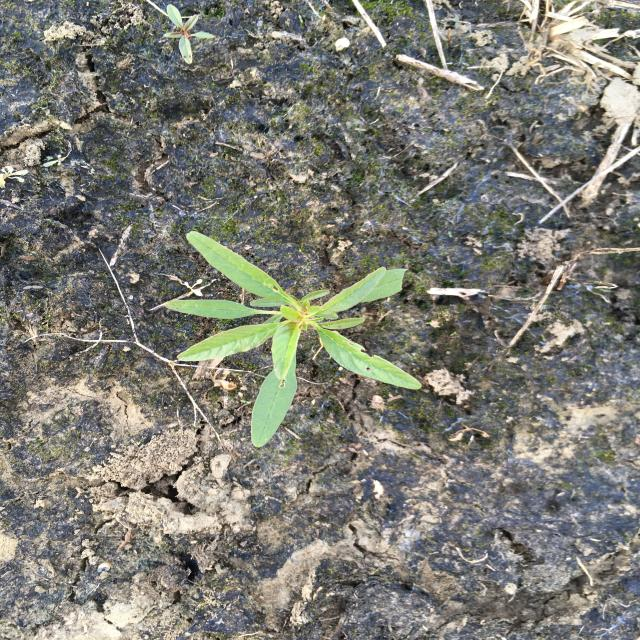Waterhemp: (162, 230, 425, 450), (154, 4, 221, 68)
